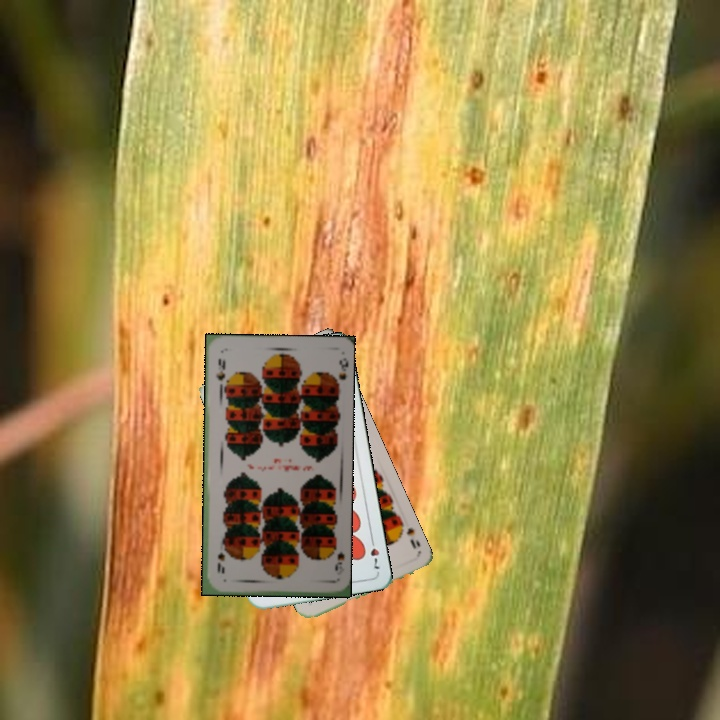H7: (366, 533, 383, 572)
S9: (396, 518, 419, 552), (327, 540, 346, 573), (212, 354, 228, 390)
